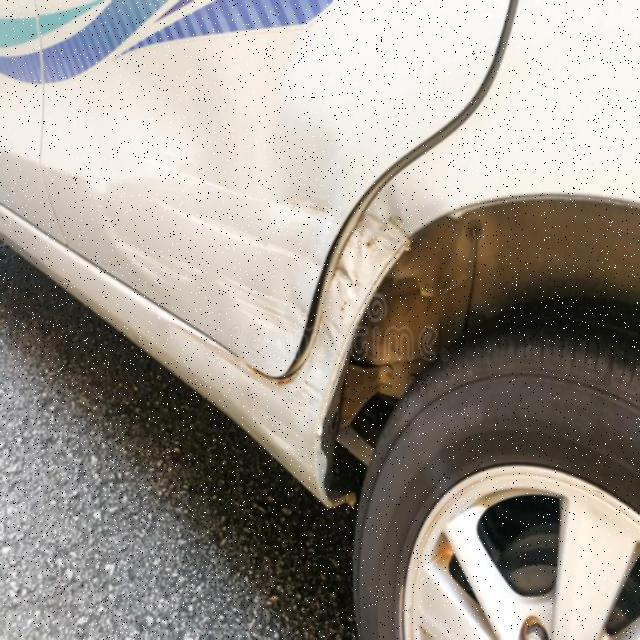doorouter-dent: (44, 0, 314, 377)
quaterpanel-dent: (316, 189, 543, 524)
